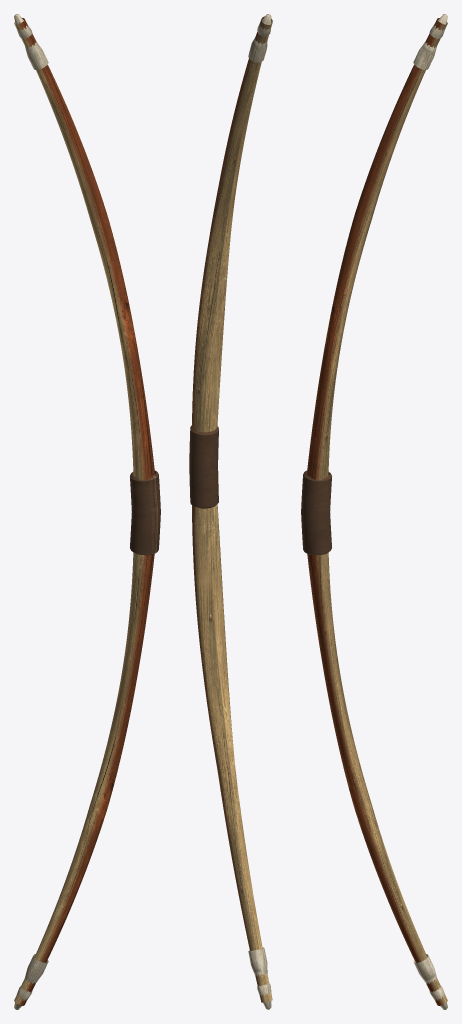
File: bow.glb
3 views of the same model, side by side, from view 1: azimuth 90°, elevation 25°; view 2: azimuth 210°, elevation 25°; view 3: azimuth 270°, elevation 25° (orthographic).
Parts seen in each view (by area): view 1: bow; view 2: bow; view 3: bow.
Boxes of the visible parts, bbox=[...] form: bow: bbox=[14, 14, 160, 1009]; bow: bbox=[189, 14, 272, 1009]; bow: bbox=[301, 14, 447, 1009].
Bounding box in the file's own units: 0.0394 × 1.47 × 0.1968.
Materials: 1 (1 with a texture image).
